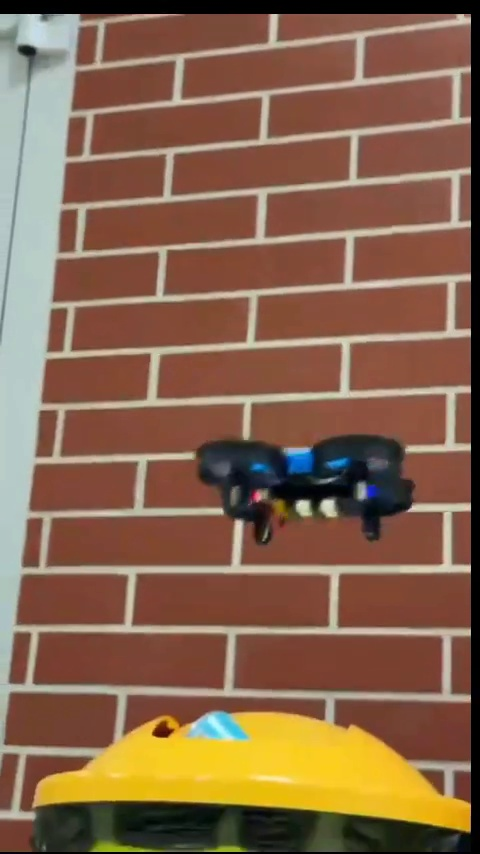drone: (193, 440, 426, 544)
